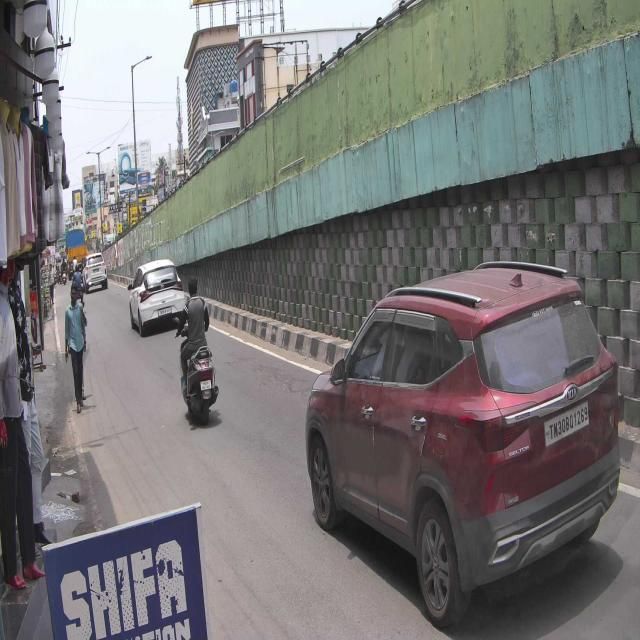single_rider: (171, 276, 220, 426)
